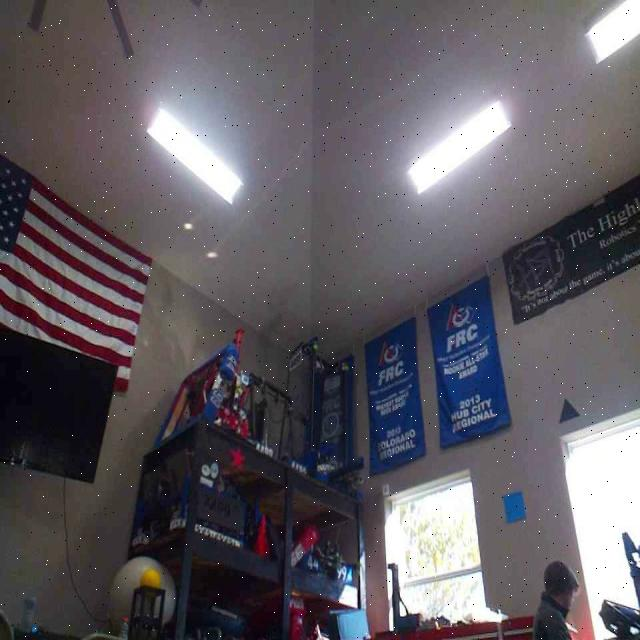square_blue: (501, 489, 526, 523)
star_red: (229, 446, 245, 468)
triangle_black: (559, 398, 581, 423)
